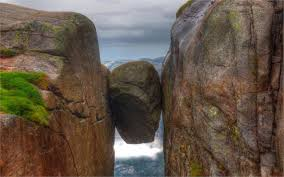stone: (173, 3, 284, 168), (4, 7, 114, 172), (104, 56, 166, 147)
